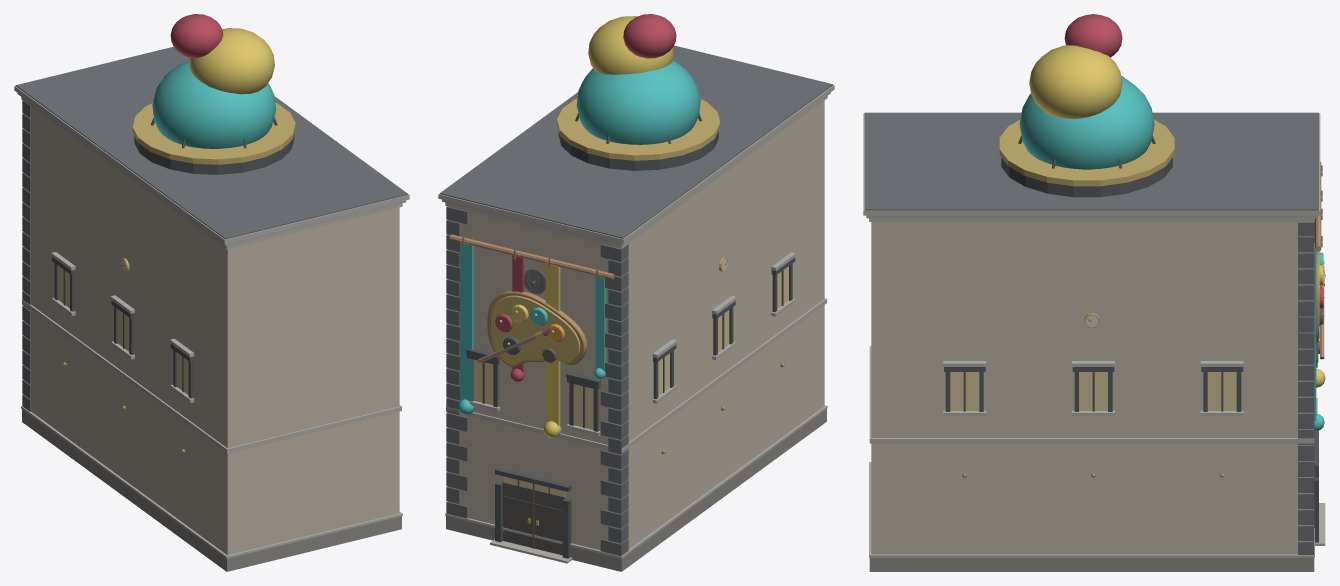
Rendered from centro-paint-4258b9b9.glb.
3 views of the same model, side by side, from view 1: azimuth 30°, elevation 25°; view 2: azimuth 150°, elevation 25°; view 3: azimuth 270°, elevation 25° (orthographic). The views are drawn at different scales.
Visible parts, largest first — view 1: centro_paint_wall, centro_paint_body, centro_paint_glow, centro_paint_lamp; view 2: centro_paint_wall, centro_paint_body, centro_paint_glow, centro_paint_lamp; view 3: centro_paint_wall, centro_paint_body, centro_paint_glow, centro_paint_lamp.
Part boxes in pixels (x1,y1,x2,y2): centro_paint_wall: [22, 106, 401, 571]; centro_paint_body: [14, 46, 409, 558]; centro_paint_glow: [152, 14, 275, 148]; centro_paint_lamp: [58, 266, 188, 394]; centro_paint_wall: [446, 100, 826, 571]; centro_paint_body: [438, 45, 834, 563]; centro_paint_glow: [458, 14, 700, 437]; centro_paint_lamp: [473, 266, 788, 497]; centro_paint_wall: [869, 222, 1314, 571]; centro_paint_body: [863, 112, 1325, 557]; centro_paint_glow: [1019, 14, 1325, 431]; centro_paint_lamp: [950, 372, 1236, 410].
Bounding box in the file's own units: 7.2 × 17.17 × 14.36.
